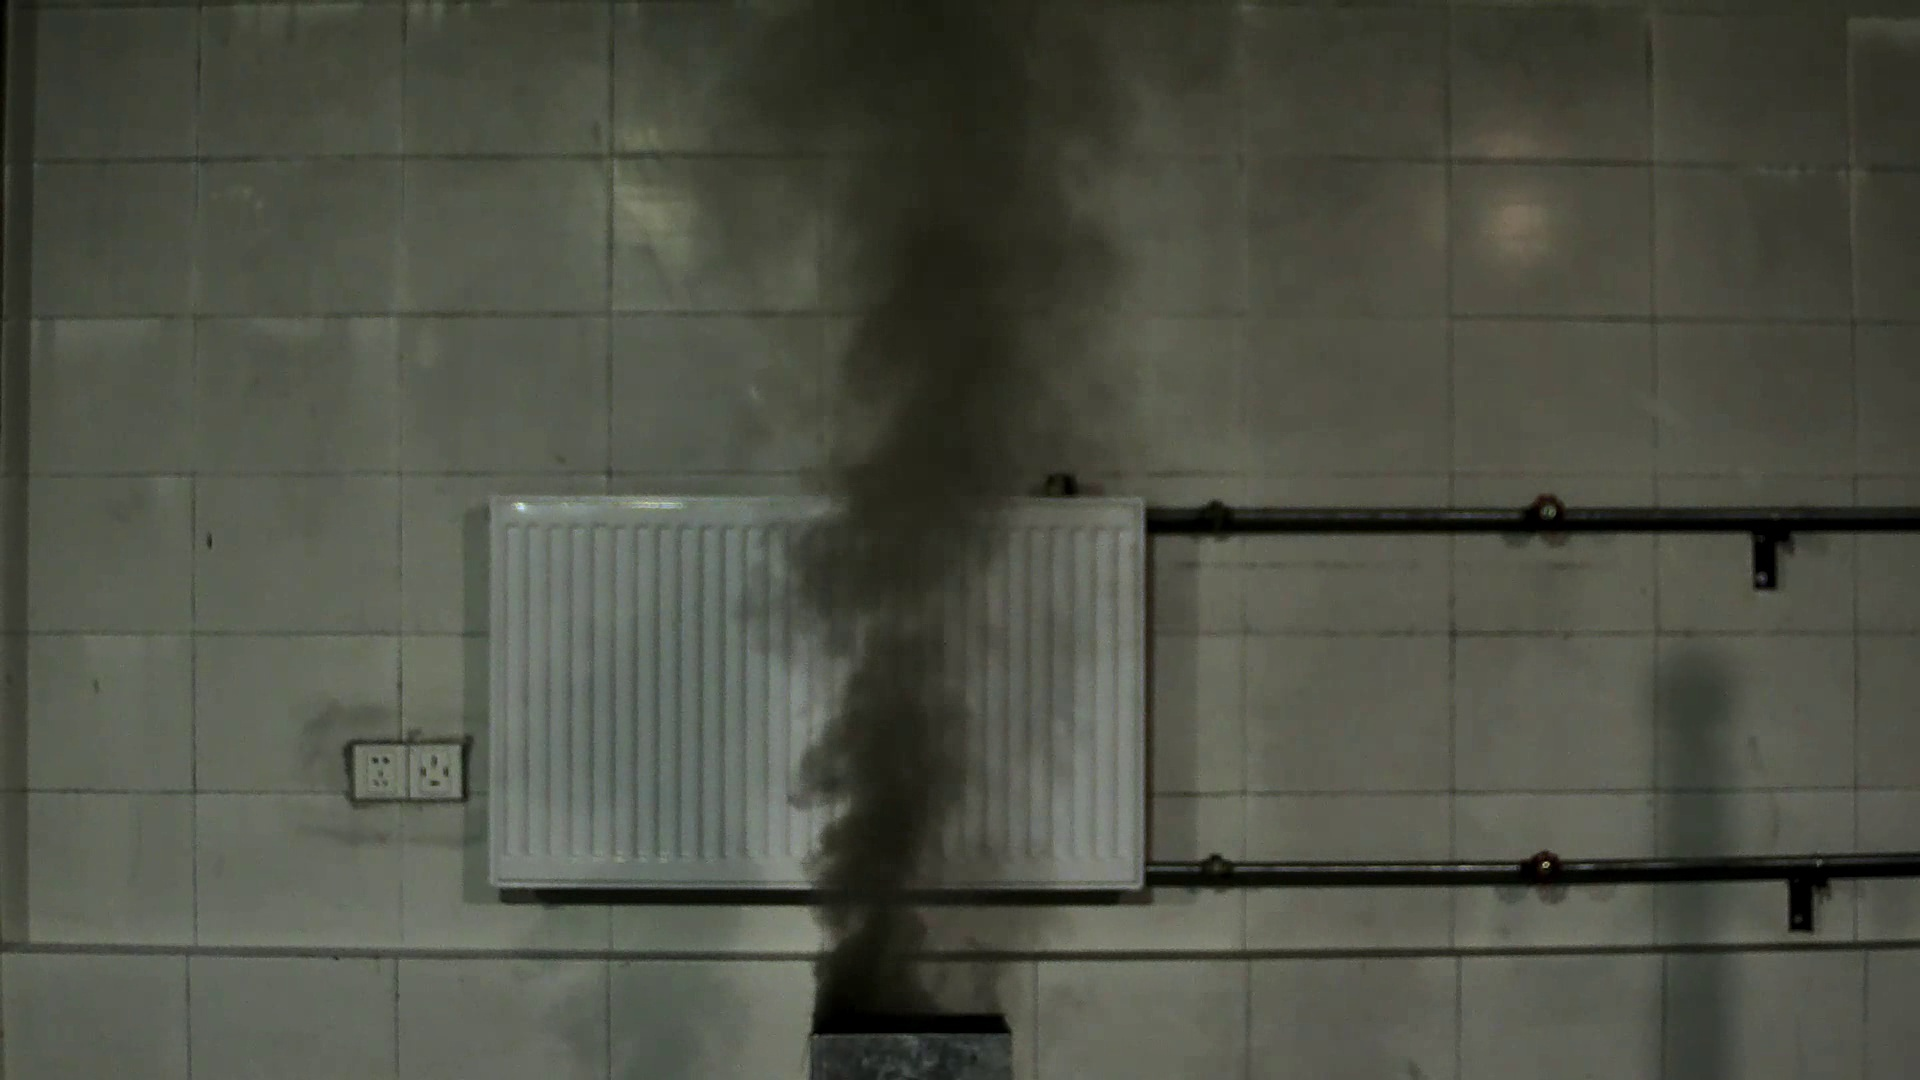smoke: (675, 88, 1117, 1011)
